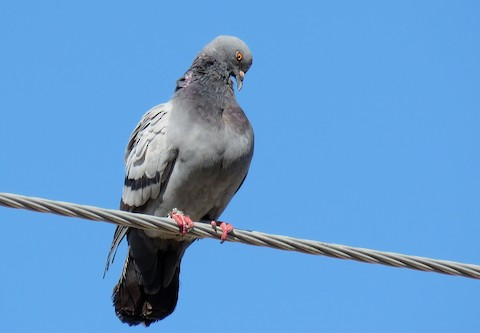pigeon: (99, 32, 256, 330)
